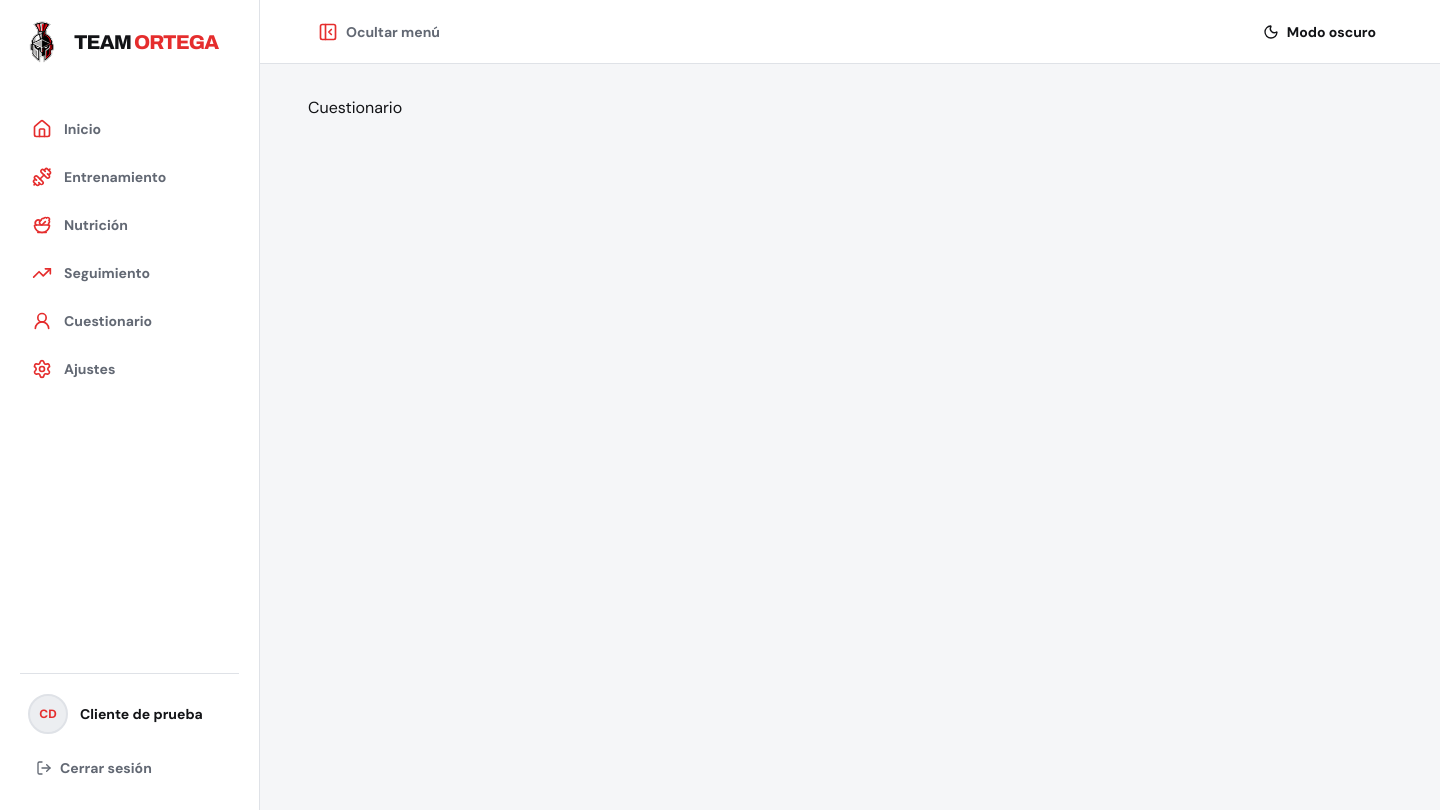
Test: DashboardShell › avisa y bloquea el resto del área cuando el cuestionario está pendiente
The image size is (1440, 810).
Step 1. Click the link "Entrenamiento" → x=99, y=177, box [32,167,166,187]
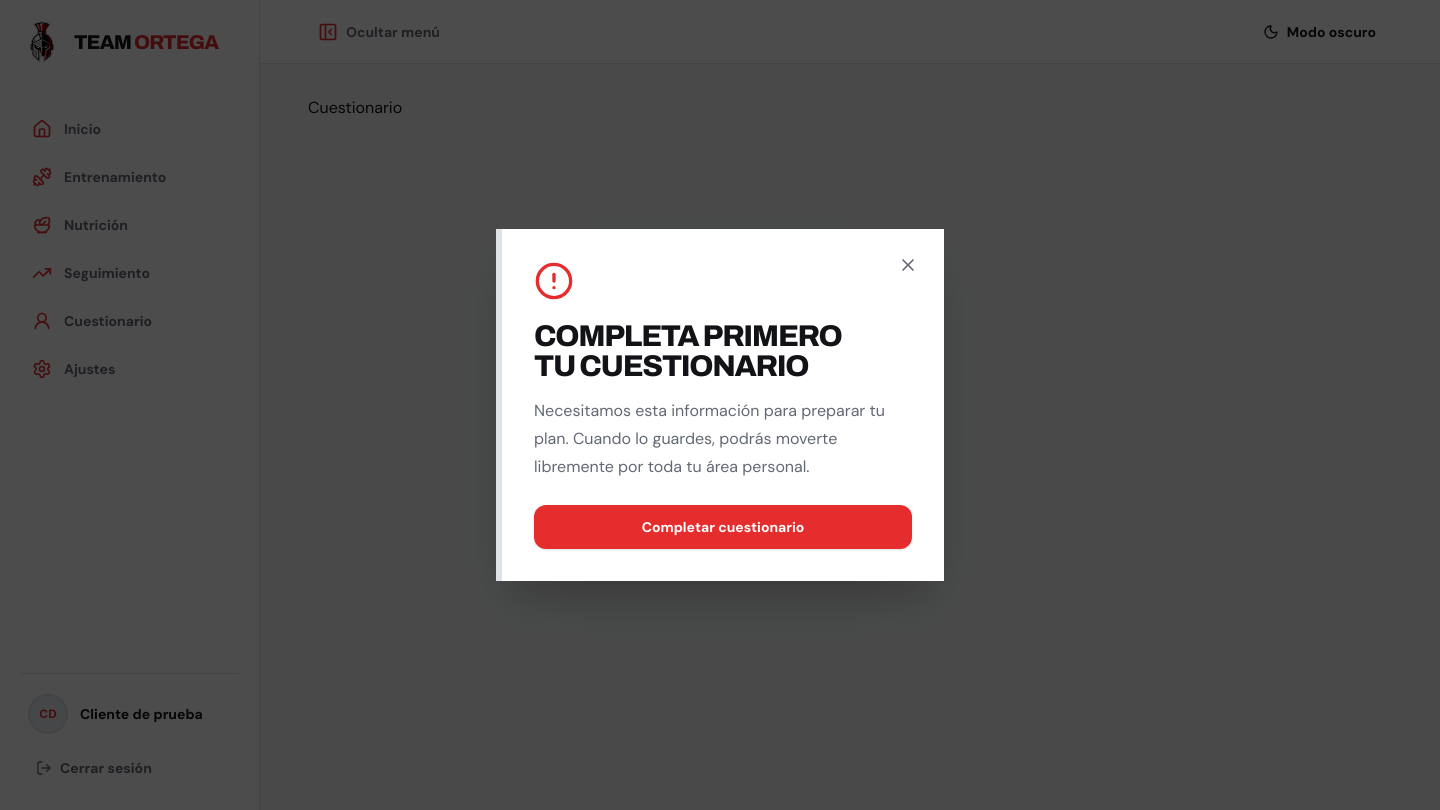
Now the dialog "Completa primero tu cuestionario" is shown, box [496,229,944,581]
Now the text "cuando lo guardes, podrás moverte libremente" is shown, box [534,400,885,477]
Step 2. Click the button named "Cerrar aviso" → x=908, y=265, box [888,245,928,285]
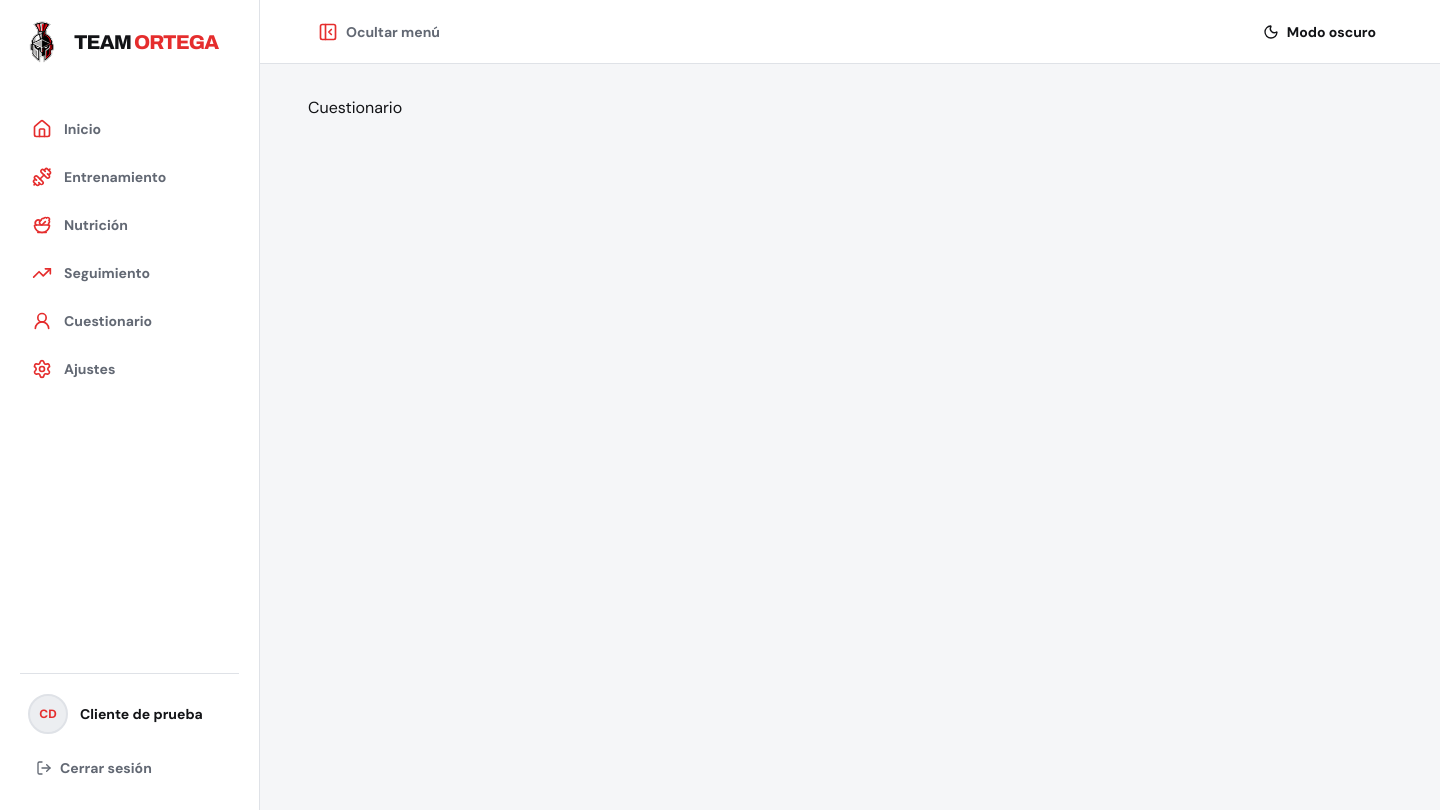
Now the heading "Completa primero tu cuestionario" is gone
